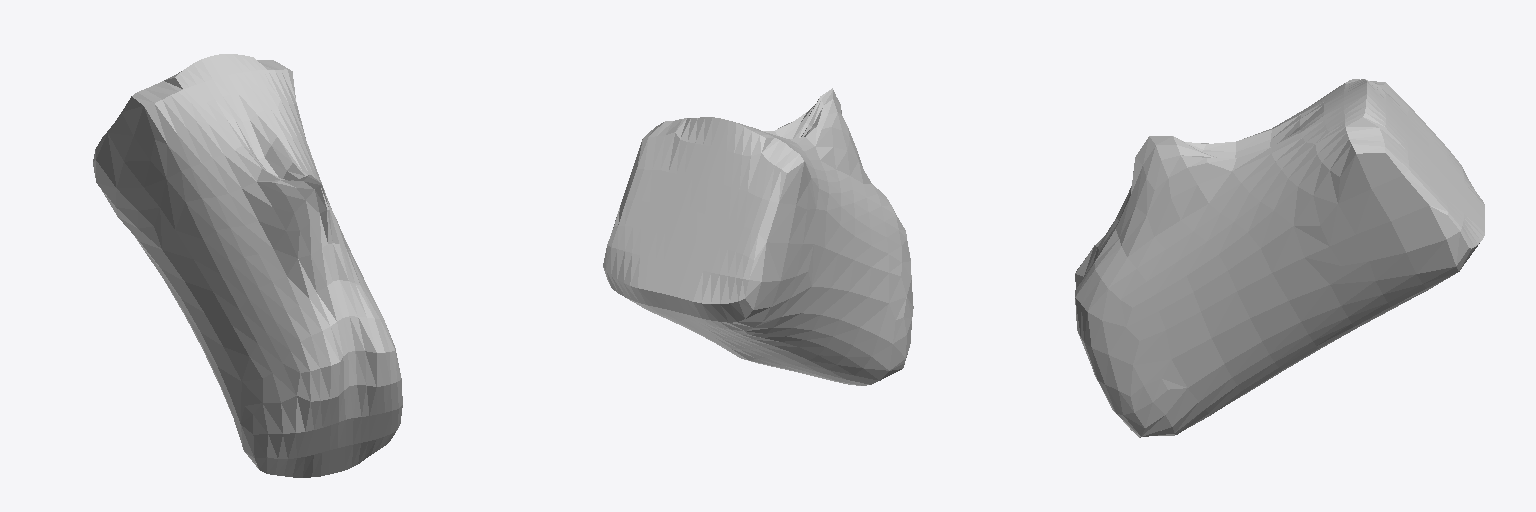
Rendered from vertabrae27.obj.
The picture shows the model from 3 angles: view 1: azimuth 30°, elevation 25°; view 2: azimuth 150°, elevation 25°; view 3: azimuth 270°, elevation 25°; orthographic projection.
Parts seen in each view (by area): view 1: Cube.119_Cube.120; view 2: Cube.119_Cube.120; view 3: Cube.119_Cube.120.
Boxes of the visible parts, x1=… form: Cube.119_Cube.120: x1=93, y1=54, x2=402, y2=477; Cube.119_Cube.120: x1=603, y1=88, x2=913, y2=385; Cube.119_Cube.120: x1=1075, y1=79, x2=1484, y2=437.
Size of the model in its own units: 0.0425 by 0.089 by 0.0984.